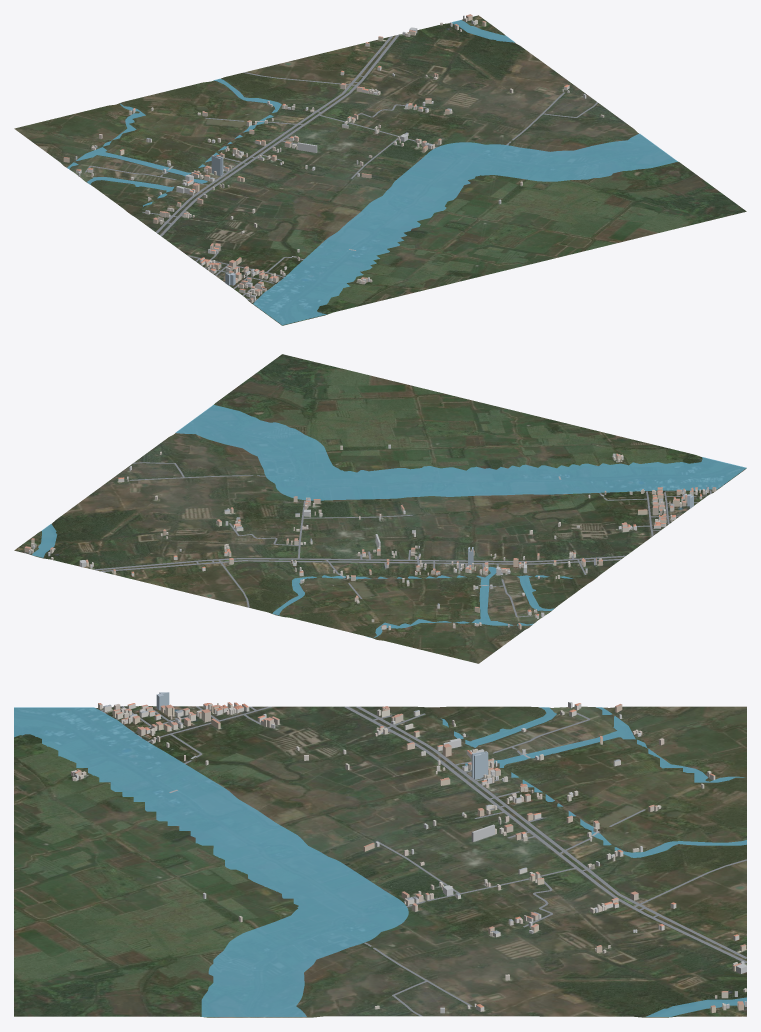
3 renders of one model, top to bottom at view 1: azimuth 30°, elevation 25°; view 2: azimuth 150°, elevation 25°; view 3: azimuth 270°, elevation 25°, orthographic. The views are drawn at different scales.
Parts seen in each view (by area): view 1: TERRAIN, WATER, ROAD_METRO, BLDG_SHOPHOUSE, BLDG_TUBE_HOUSE, BLDG_VILLA; view 2: TERRAIN, WATER, ROAD_METRO, BLDG_TUBE_HOUSE, BLDG_SHOPHOUSE, BLDG_VILLA; view 3: TERRAIN, WATER, ROAD_METRO, BLDG_SHOPHOUSE, BLDG_TUBE_HOUSE, BLDG_VILLA, BLDG_MODERN_TOWER, BLDG_APARTMENT.
Boxes of the visible parts, x1,y1,x2,y2 form: TERRAIN: (14, 15, 746, 325); WATER: (67, 20, 677, 325); ROAD_METRO: (85, 34, 597, 301); BLDG_SHOPHOUSE: (63, 14, 486, 303); BLDG_TUBE_HOUSE: (75, 15, 604, 297); BLDG_VILLA: (76, 42, 569, 300); TERRAIN: (14, 354, 746, 663); WATER: (32, 404, 746, 637); ROAD_METRO: (94, 462, 711, 617); BLDG_TUBE_HOUSE: (28, 444, 706, 629); BLDG_SHOPHOUSE: (24, 453, 716, 629); BLDG_VILLA: (118, 477, 708, 629); TERRAIN: (14, 706, 746, 1017); WATER: (14, 707, 746, 1016); ROAD_METRO: (100, 706, 746, 1016); BLDG_SHOPHOUSE: (74, 702, 746, 1012); BLDG_TUBE_HOUSE: (71, 702, 746, 1013); BLDG_VILLA: (103, 702, 739, 1011); BLDG_MODERN_TOWER: (156, 692, 488, 779); BLDG_APARTMENT: (443, 738, 746, 973).
Bounding box in the file's own units: 2000 × 76.05 × 2000.
Materials: 8 (1 with a texture image).
